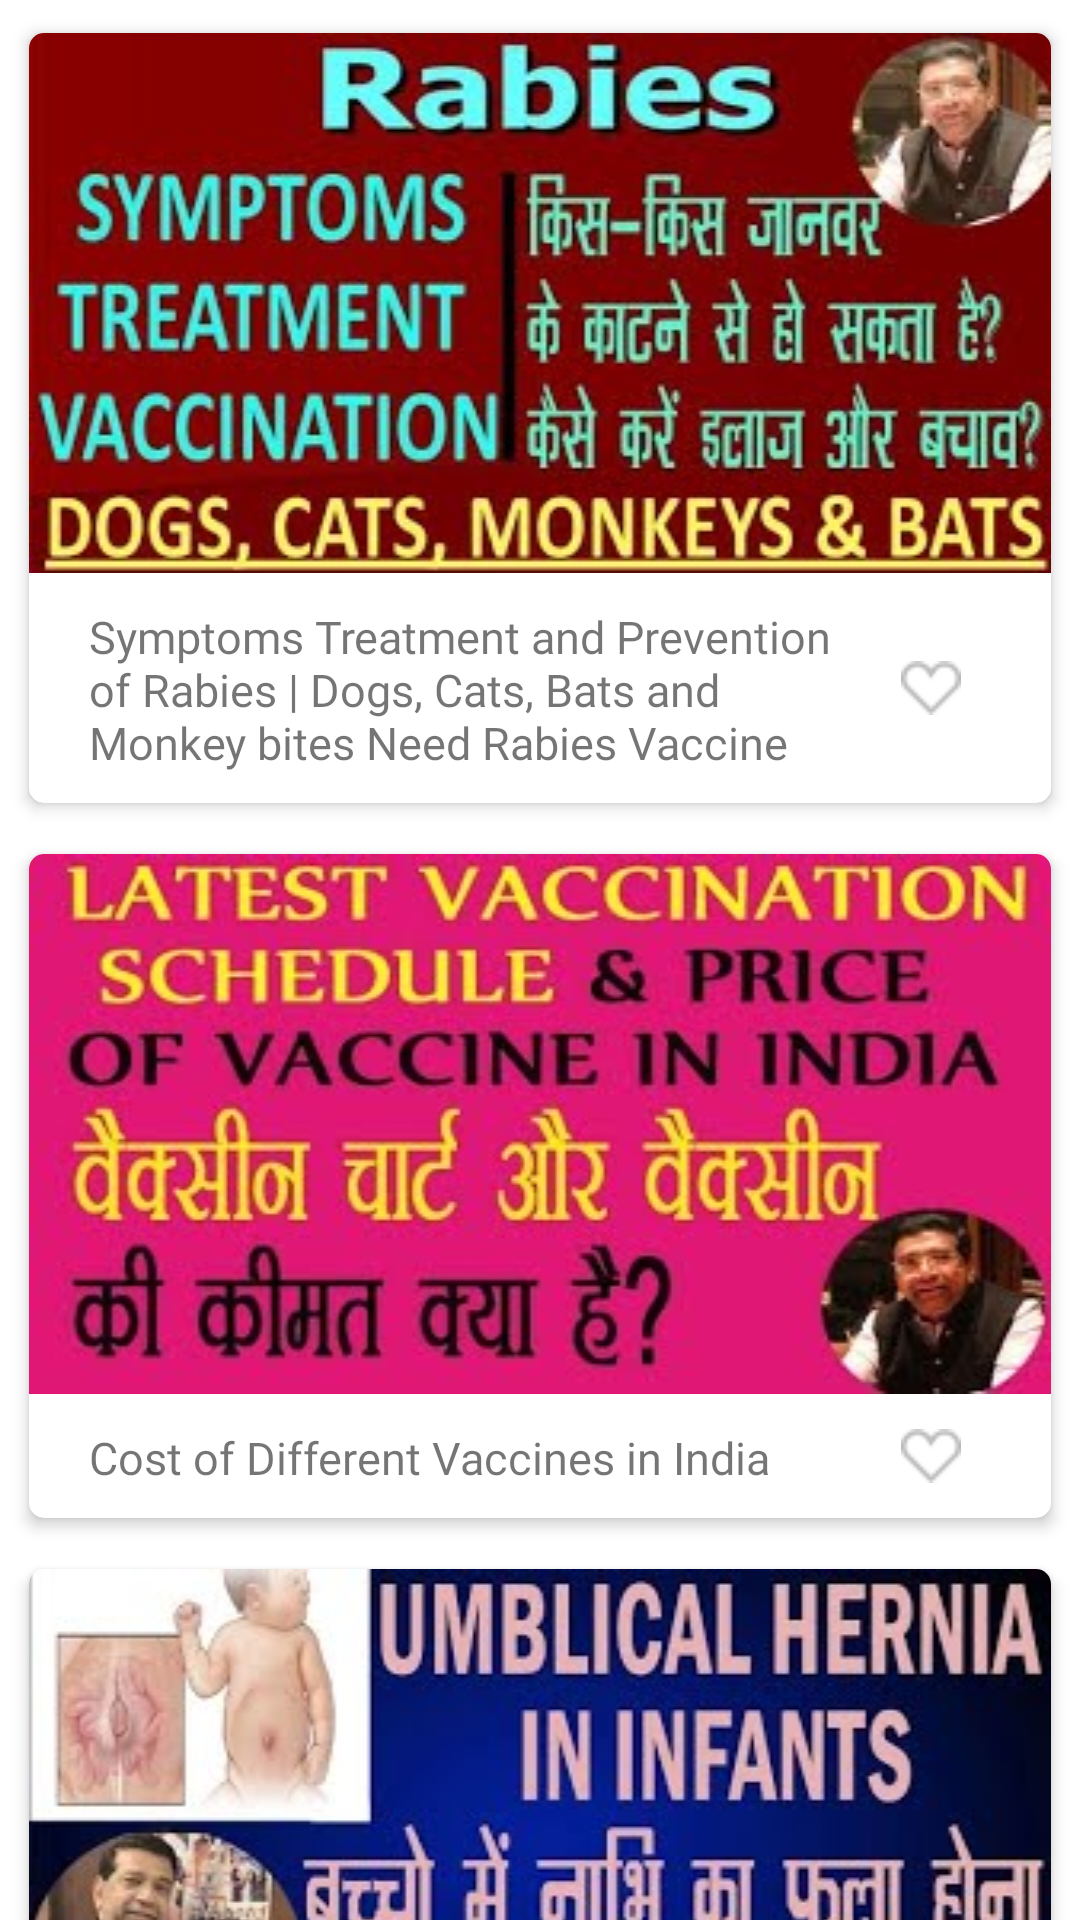

Named icons in this screenshot (1080*1920) and their bounding boxes, (x1, y1, x2, y2):
like: (901, 661, 961, 715), (901, 1429, 961, 1483)
